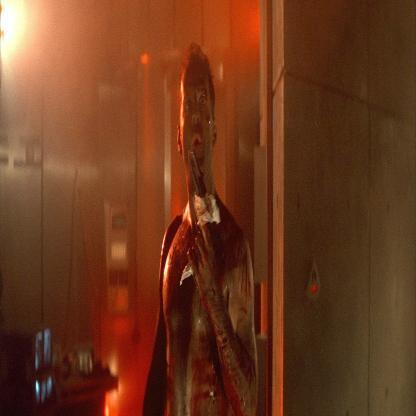gun: (179, 139, 227, 294)
